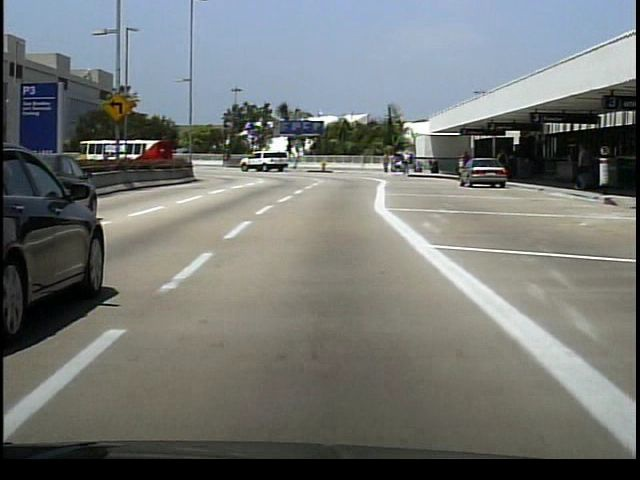person: (573, 139, 595, 194), (495, 146, 511, 184), (402, 148, 412, 177), (382, 150, 391, 174), (388, 151, 396, 175)
